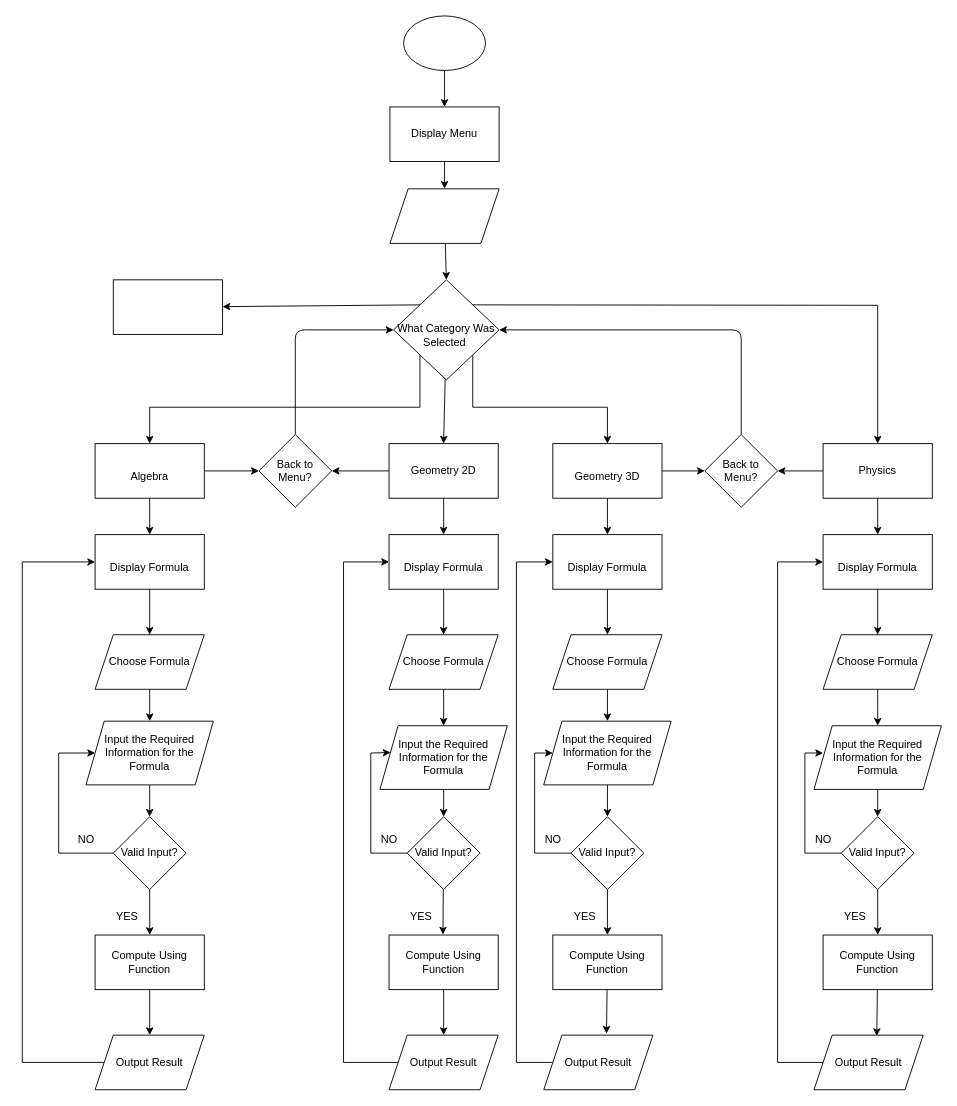
This 957x1106 diagram has some shape labels left out. The centre of each missing label's shape, as x and y in pixels:
Exit: the point at 167,306
Input Choice In menu: the point at 444,215
START: the point at 444,43
